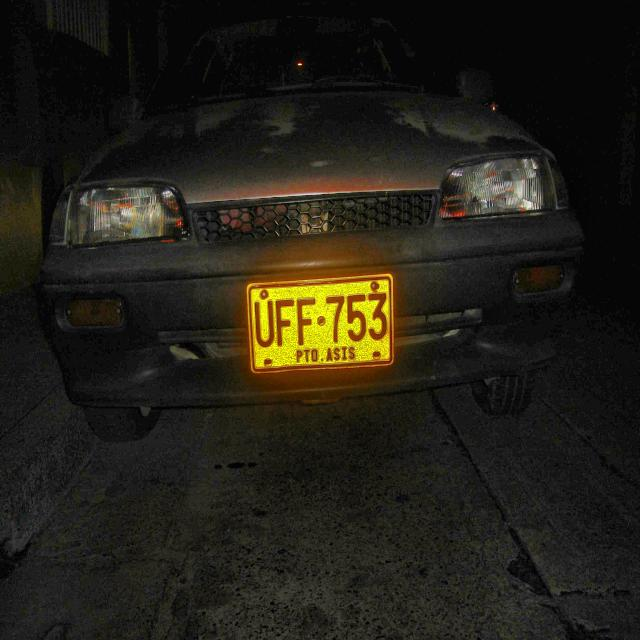plate: (247, 273, 394, 374)
